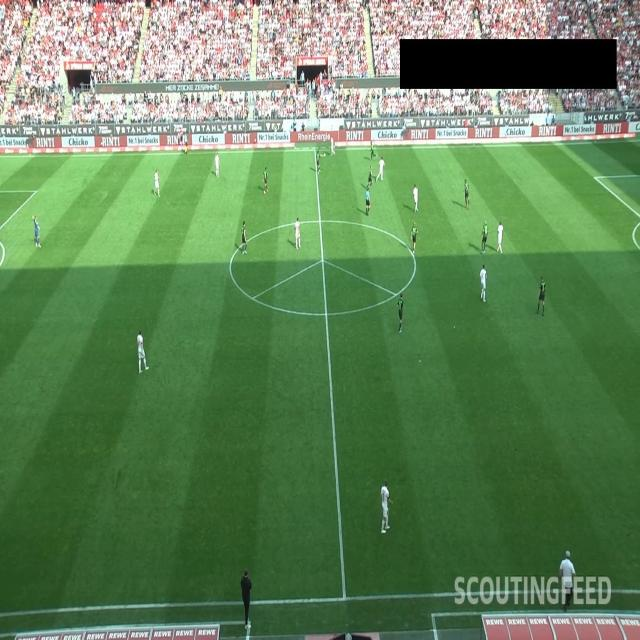ball: (323, 152, 326, 157)
